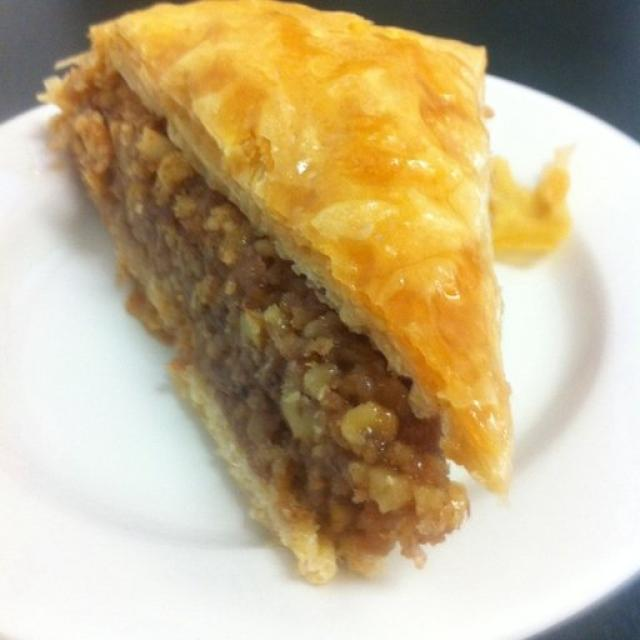Baklawa: (43, 2, 553, 602)
